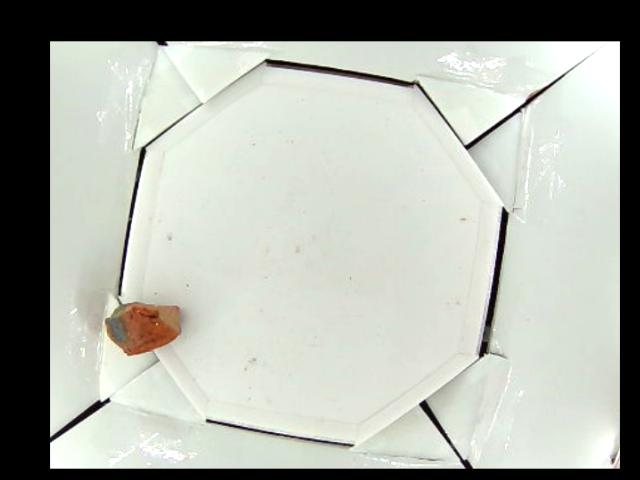Brisk: (102, 299, 181, 357)
